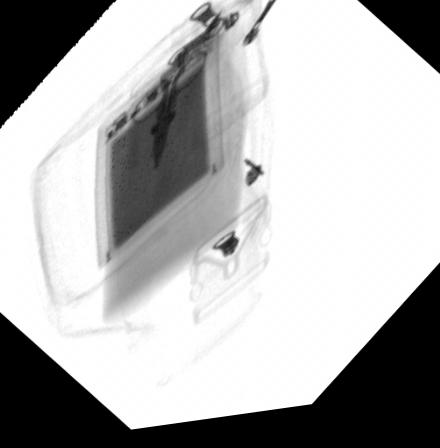Powerbank: (88, 23, 225, 282)
Scissors: (125, 52, 210, 175)
